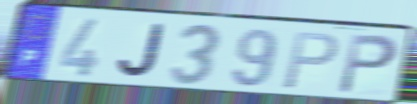3: (169, 22, 225, 87)
4: (57, 16, 101, 80)
9: (229, 27, 278, 90)
J: (115, 22, 167, 81)
P: (336, 32, 400, 96), (280, 30, 341, 92)
